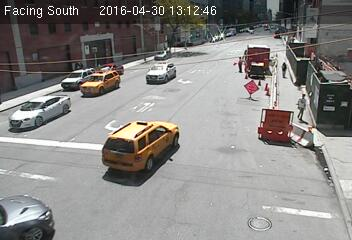neg: (45, 132, 80, 178), (127, 132, 153, 167), (50, 80, 75, 114), (162, 32, 186, 65), (190, 172, 209, 198), (237, 73, 256, 98), (267, 161, 285, 185), (262, 94, 279, 117), (83, 51, 100, 74), (192, 79, 209, 101), (192, 147, 209, 169), (126, 76, 142, 97), (240, 206, 253, 223)
pos: (290, 89, 314, 121), (278, 59, 293, 80)
